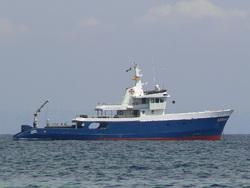yacht: (14, 63, 235, 142)
